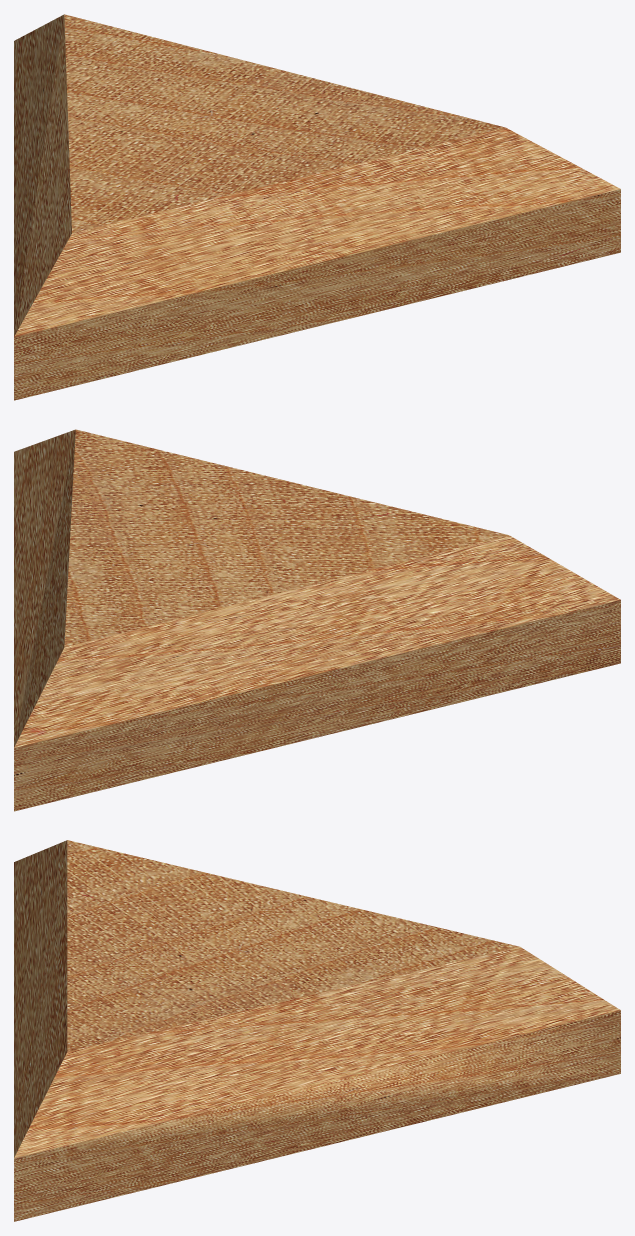
The model's file is Triangle.FBX.
3 renders of one model, top to bottom at view 1: azimuth 30°, elevation 25°; view 2: azimuth 150°, elevation 25°; view 3: azimuth 270°, elevation 25°, orthographic.
Visible parts, largest first — view 1: Triangle; view 2: Triangle; view 3: Triangle.
Part boxes in pixels (left/top/right/bottom): Triangle: left=14, top=14, right=620, bottom=400; Triangle: left=14, top=429, right=620, bottom=811; Triangle: left=14, top=840, right=620, bottom=1221.
Size of the model in its own units: 10 by 8.66 by 2.
